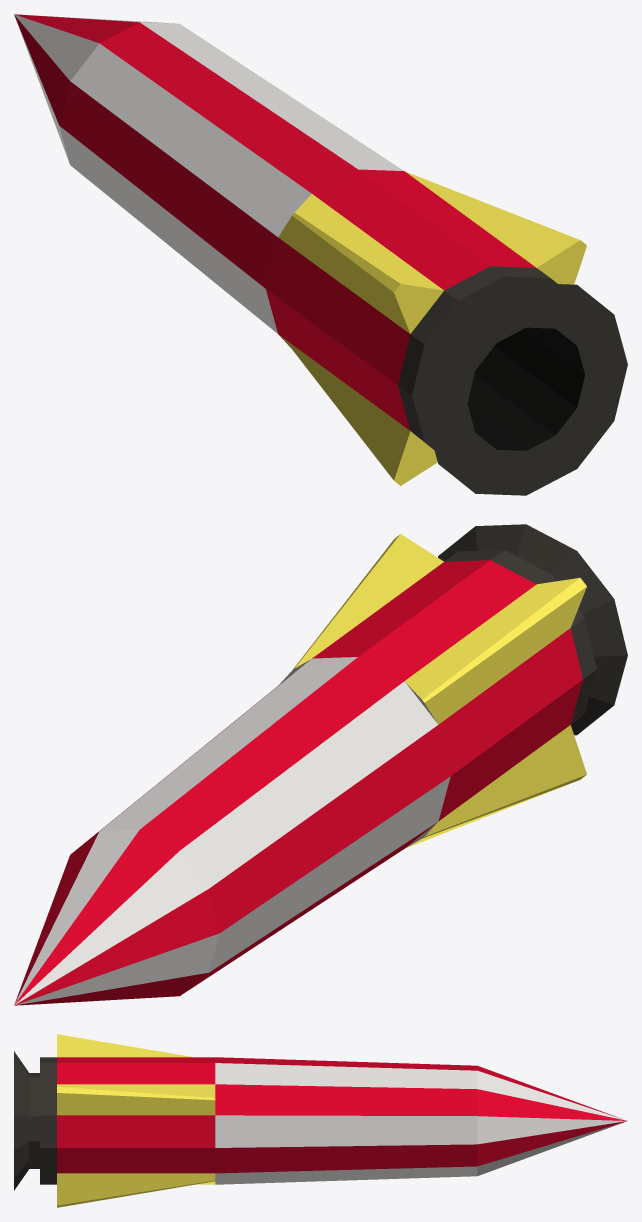
Rendered from Rocket.fbx.
3 renders of one model, top to bottom at view 1: azimuth 30°, elevation 25°; view 2: azimuth 150°, elevation 25°; view 3: azimuth 270°, elevation 25°, orthographic. The views are drawn at different scales.
Parts seen in each view (by area): view 1: Rocket; view 2: Rocket; view 3: Rocket.
Boxes of the visible parts, x1,y1,x2,y2 form: Rocket: [14, 14, 627, 495]; Rocket: [14, 524, 627, 1005]; Rocket: [14, 1034, 627, 1207].
Bounding box in the file's own units: 0.4787 × 0.4787 × 2.09.
